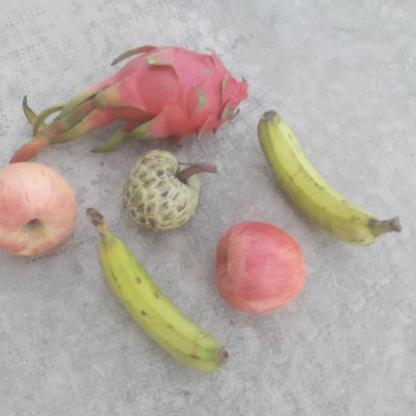annona: (122, 146, 211, 230)
apple: (212, 221, 306, 320), (0, 160, 80, 257)
banana: (85, 204, 232, 375), (255, 108, 407, 248)
pitaya: (90, 41, 250, 147)
